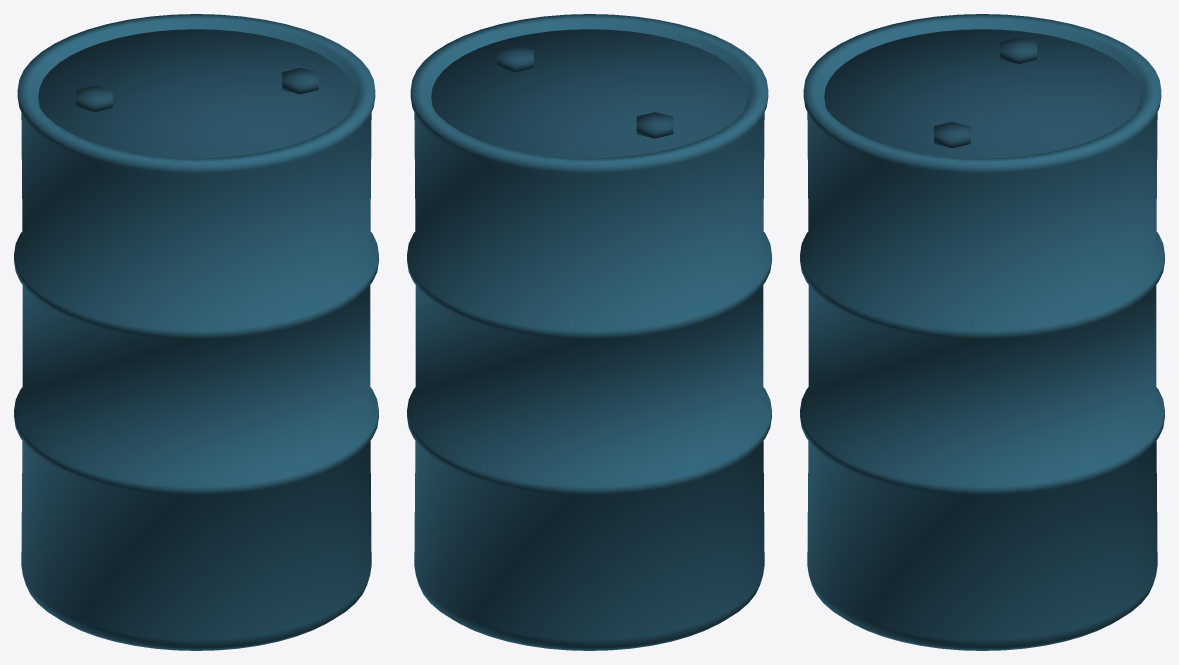
File: Prop_Barrel.glb
3 renders of one model, left to right at view 1: azimuth 30°, elevation 25°; view 2: azimuth 150°, elevation 25°; view 3: azimuth 270°, elevation 25°, orthographic.
Visible parts, largest first — view 1: Barrel, Lid; view 2: Barrel, Lid; view 3: Barrel, Lid.
Part boxes in pixels (box(x1,y1,x2,y2)): Barrel: box(14, 14, 378, 650); Lid: box(38, 29, 354, 158); Barrel: box(407, 14, 771, 650); Lid: box(431, 29, 747, 158); Barrel: box(800, 14, 1164, 650); Lid: box(824, 29, 1140, 158).
Bounding box in the file's own units: 0.604 × 0.904 × 0.604.
